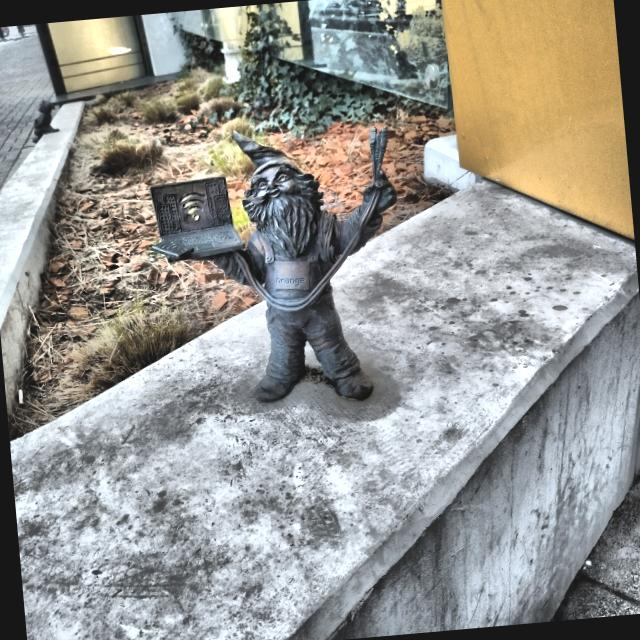Krasnal_Teleclaw: (151, 127, 396, 402)
